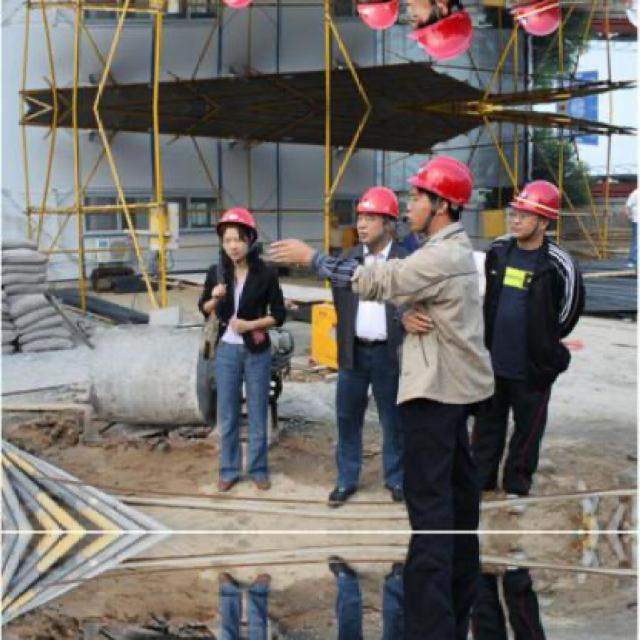helmet: (403, 154, 474, 232), (401, 0, 474, 63), (508, 182, 566, 245), (351, 185, 402, 247), (212, 204, 260, 264), (506, 0, 566, 35), (351, 0, 404, 32), (212, 0, 262, 14)
